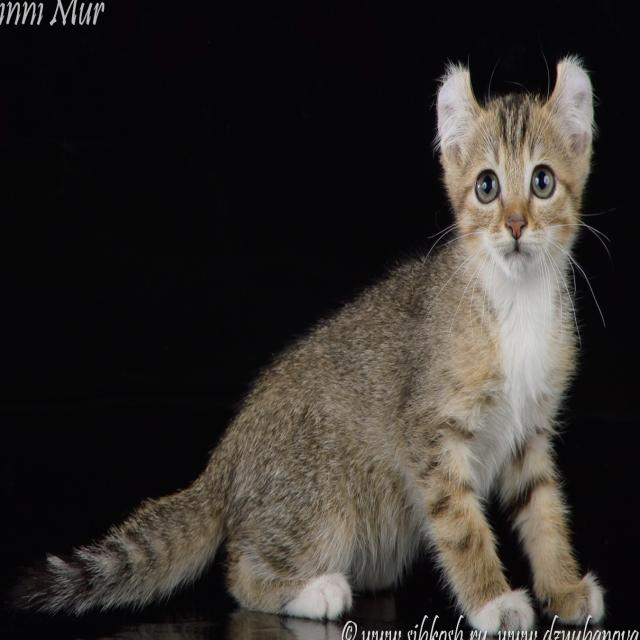American Curl: (4, 49, 610, 640)
